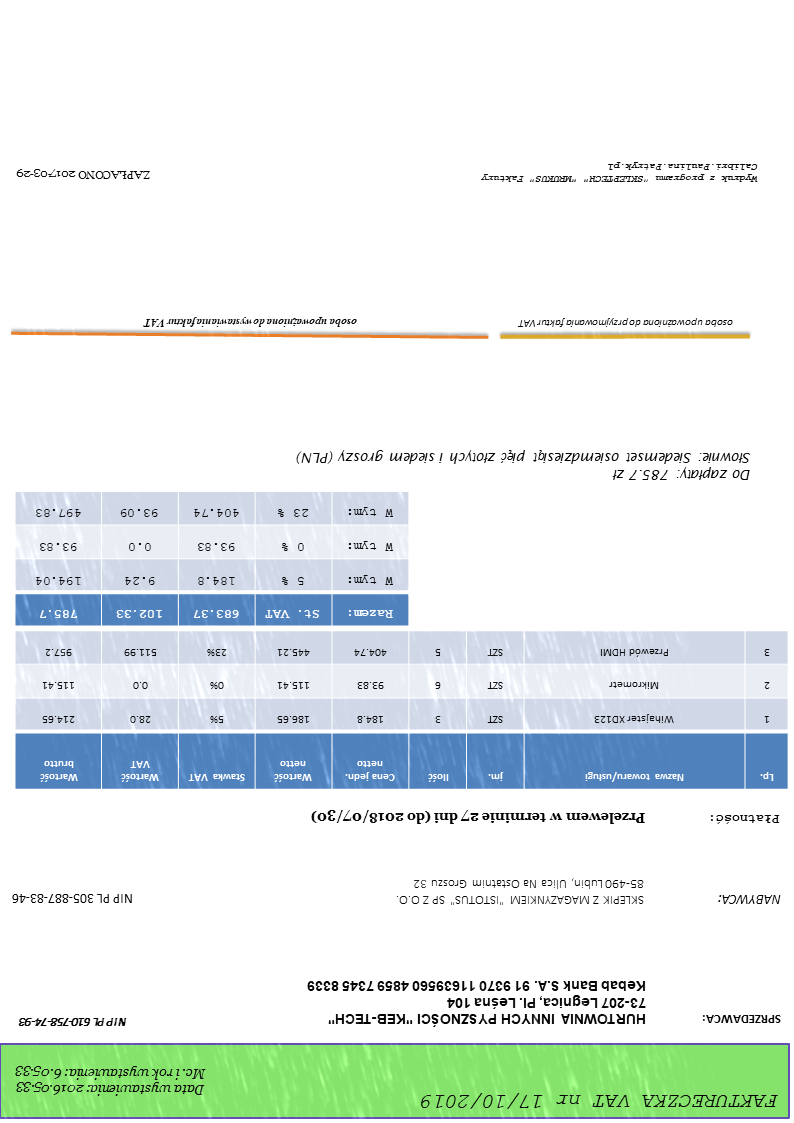Table: (14, 629, 790, 792), (13, 490, 411, 627)
TextBox: (304, 976, 649, 1030), (294, 449, 754, 486), (394, 875, 647, 909), (419, 1089, 781, 1112), (478, 160, 760, 186), (13, 1062, 209, 1099), (311, 809, 648, 828), (515, 314, 735, 331), (142, 315, 360, 331), (16, 166, 154, 183), (10, 890, 137, 908), (16, 1014, 129, 1031), (700, 1012, 784, 1028), (708, 812, 783, 828), (717, 893, 783, 909)
